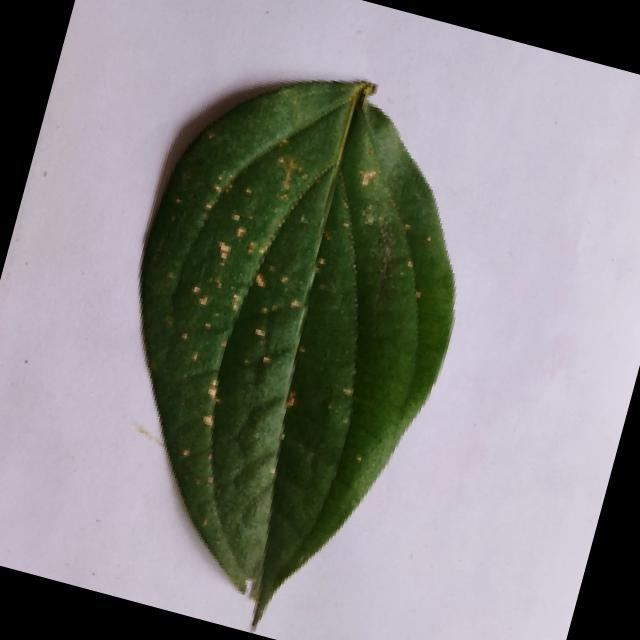pollu-disease: (52, 38, 505, 640)
